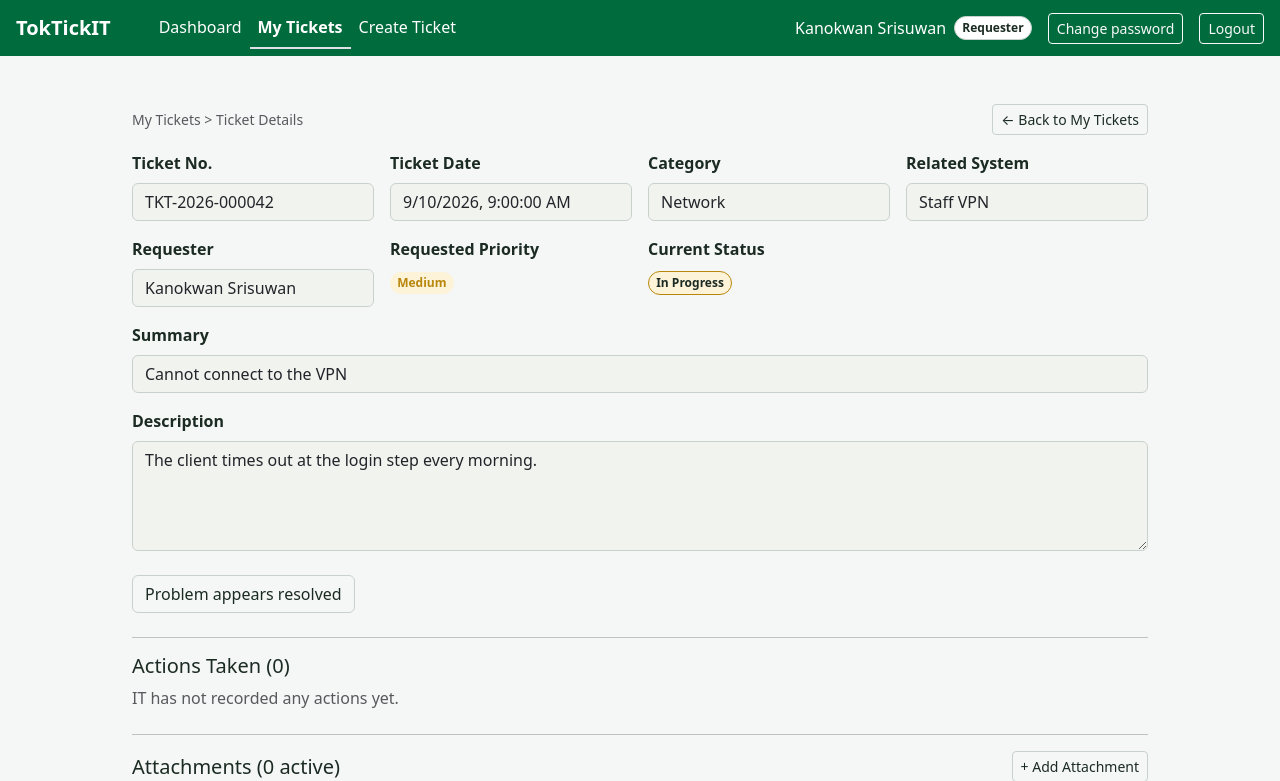
it: Requester Ticket Detail: problem appears resolved › keeps the confirmation open state clear, and shows a message with the button still usable, when the request fails
Check: the field labelled "Ticket No." is shown, box [132, 183, 374, 221]
Step 1. Click the button "Problem appears resolved" → (243, 594), box [132, 575, 355, 613]
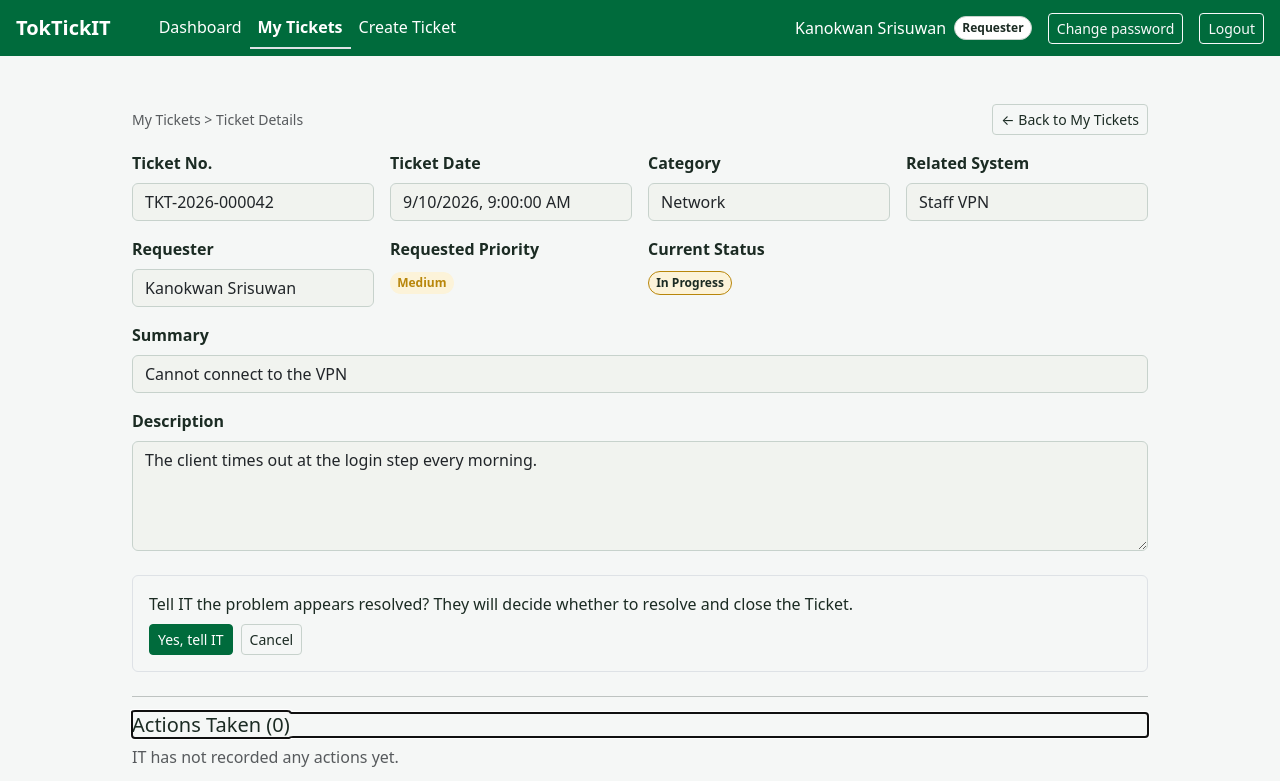
Step 2. Click the button "Yes, tell IT" → (191, 640), box [149, 624, 233, 655]
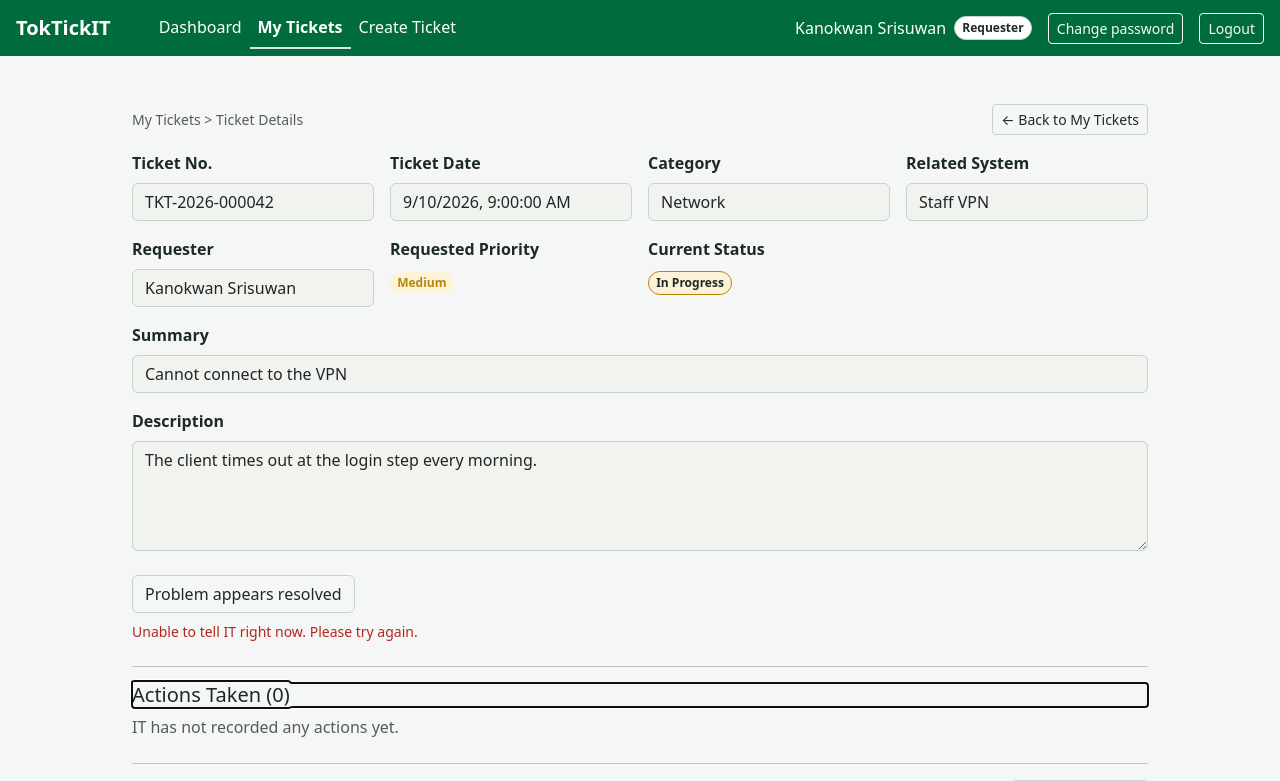
Check: the button "Problem appears resolved" is enabled, box [132, 575, 355, 613]
Check: the message reads "Unable to tell IT right now. Please try again.", box [132, 622, 418, 641]
